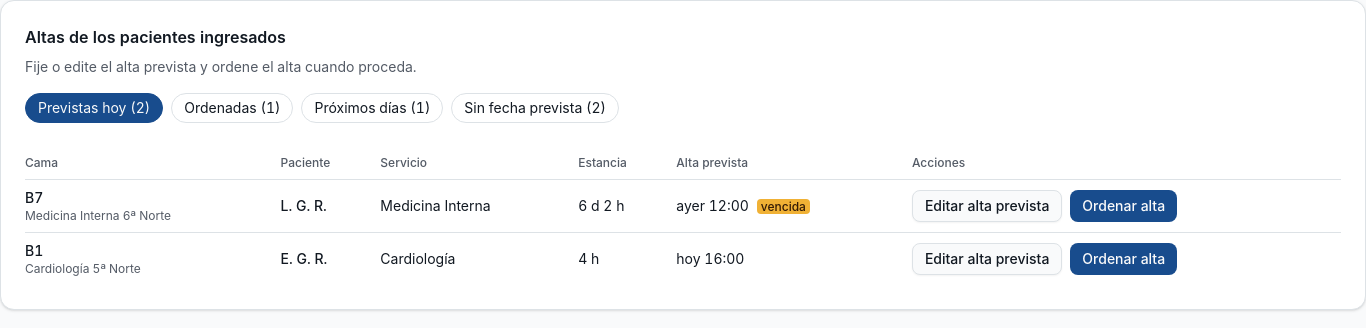
Test case: DischargeWorklist › the upcoming tab shows tomorrow's discharges; the none tab has the rest
Click the tab "Próximos días (1)" at (372, 108), box [302,93,443,123]
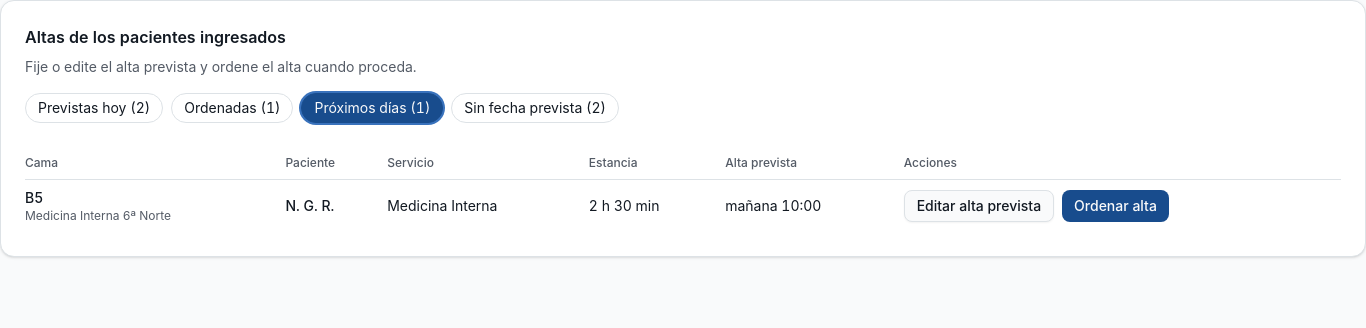
Expected: the text "mañana 10:00" is shown, [725,180,904,232]
